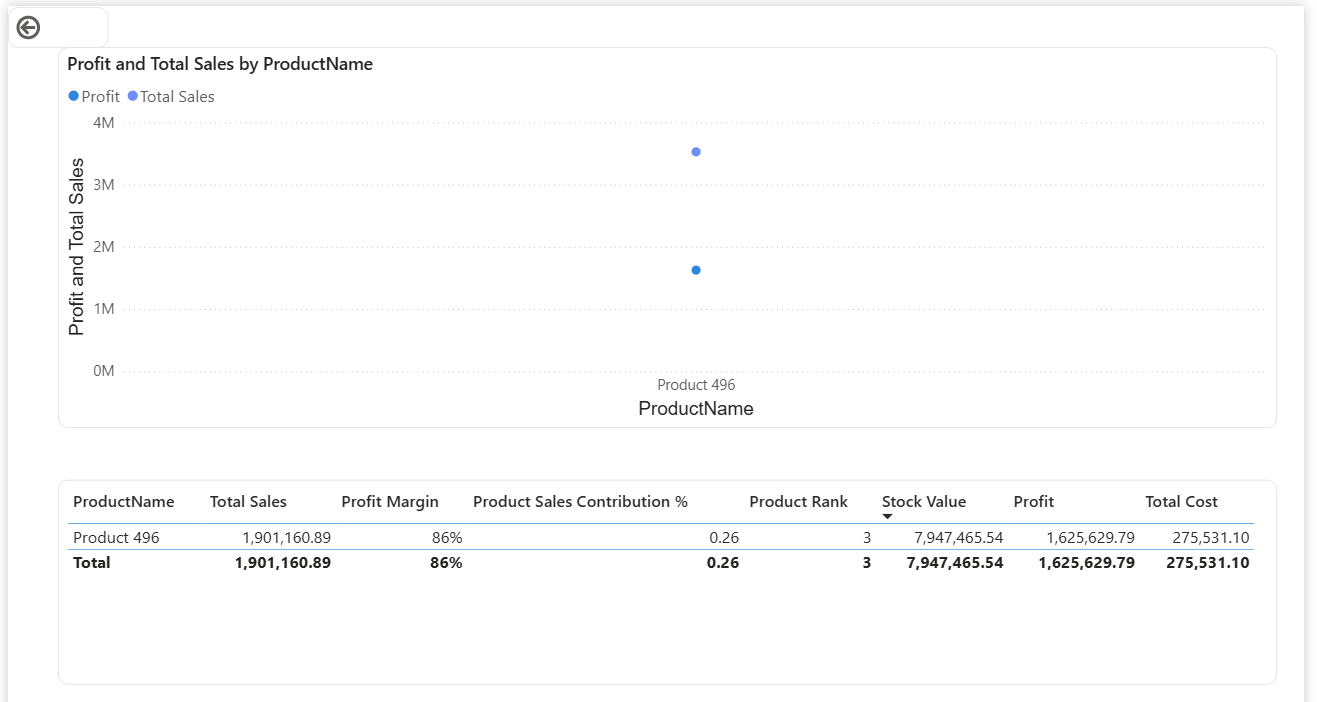

What the dashboard file says about the page in this screenshot:
{"tool":"powerbi","page":{"name":"Product detail","canvas":[1280,720],"ordinal":5},"visuals":[{"type":"actionButton","box":[0,1,99,40],"z":0},{"type":"tableEx","fields":{"Values":["DimProducts.ProductName","Measures (2).Total Sales","Measures (2).Profit Margin","Measures (2).Product Sales Contribution %","Measures (2).Product Rank","Measures (2).Stock Value","Measures (2).Profit","Measures (2).Total Cost"]},"box":[49.3,468,1204,202.7],"z":1000},{"type":"stackedAreaChart","fields":{"Category":["DimProducts.ProductName"],"Y":["Measures (2).Profit","Measures (2).Total Sales"]},"box":[49.3,41.3,1204,376],"z":2000}]}

Visuals, with their boxes on the page's 1280x720 design canvas (x1, y1, x2, y2). These are canvas units, not pixel positions in the 1317x702 screenshot, which may show the page scaled, cropped or inside an application window:
actionButton: [0, 1, 99, 41]
tableEx - DimProducts.ProductName x Measures (2).Total Sales: [49, 468, 1253, 671]
stackedAreaChart - DimProducts.ProductName x Measures (2).Profit: [49, 41, 1253, 417]
